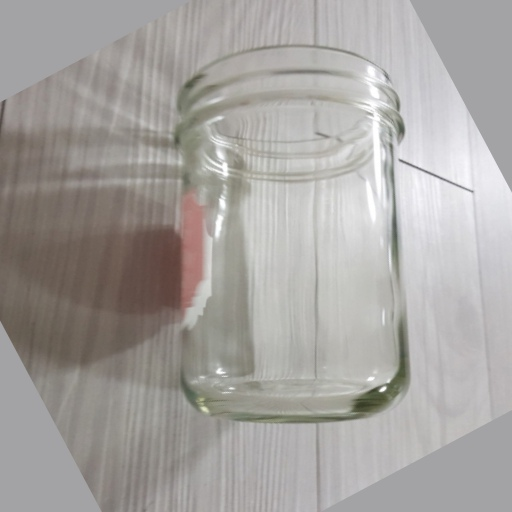Glass_5: (167, 45, 413, 427)
